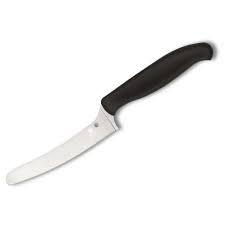Knife: (5, 41, 213, 185)
